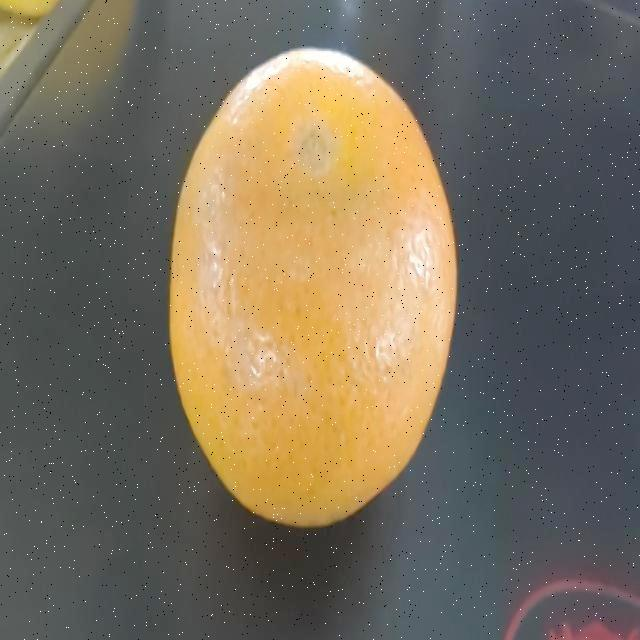Jeruk Mandarin: (169, 39, 460, 546)
